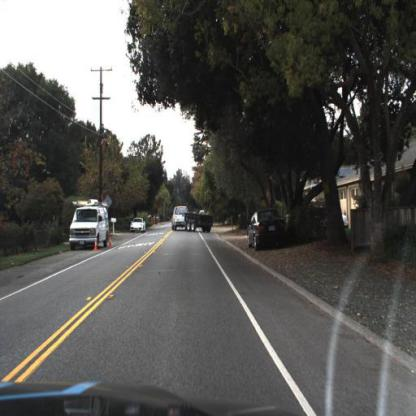car: (67, 194, 113, 254), (246, 206, 293, 253), (170, 201, 212, 236), (130, 216, 148, 234)
pedestrian: (102, 129, 111, 162)
